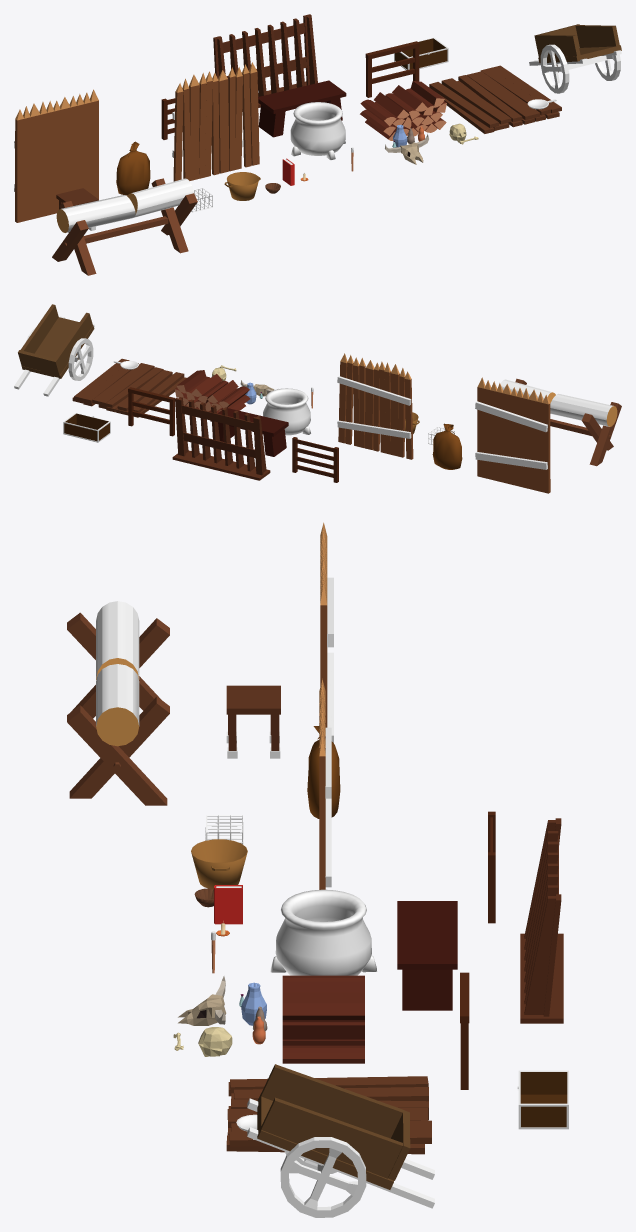
Rendered from GroupWithModel_02.fbx.
3 views of the same model, one above another, from view 1: azimuth 30°, elevation 25°; view 2: azimuth 150°, elevation 25°; view 3: azimuth 270°, elevation 25° (orthographic). The views are drawn at different scales.
Visible parts, largest first — view 1: Props with out snow; view 2: Props with out snow; view 3: Props with out snow.
Part boxes in pixels (x1,y1,x2,y2): Props with out snow: (14, 14, 621, 275); Props with out snow: (14, 304, 621, 493); Props with out snow: (67, 522, 568, 1217).
Size of the model in its own units: 1116 by 203 by 461.
